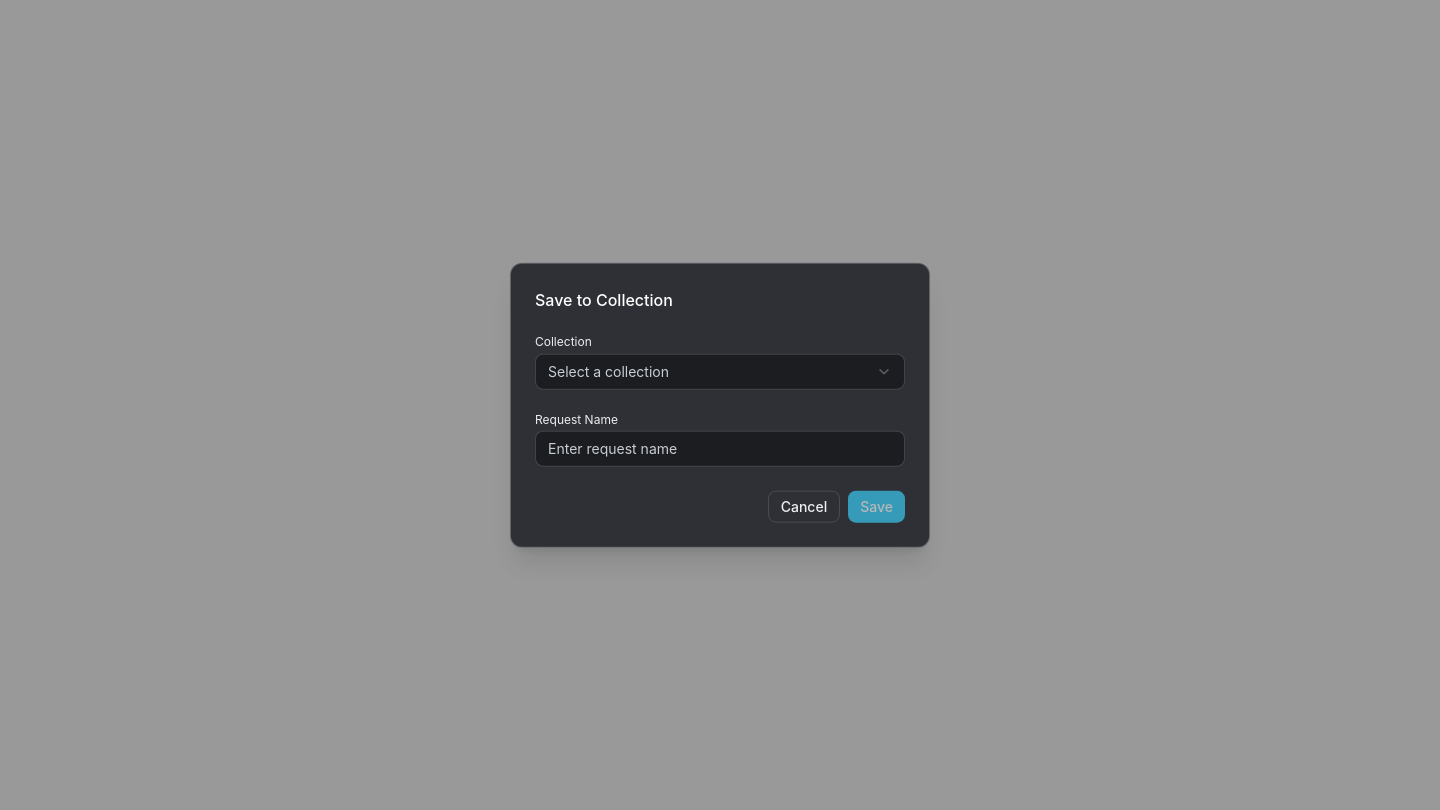
Scenario: SaveToCollectionDialog › shows collection summaries in the picker
Click the dropdown with test id "collection-picker" at [608, 371], box left=535, top=353, right=905, bottom=389
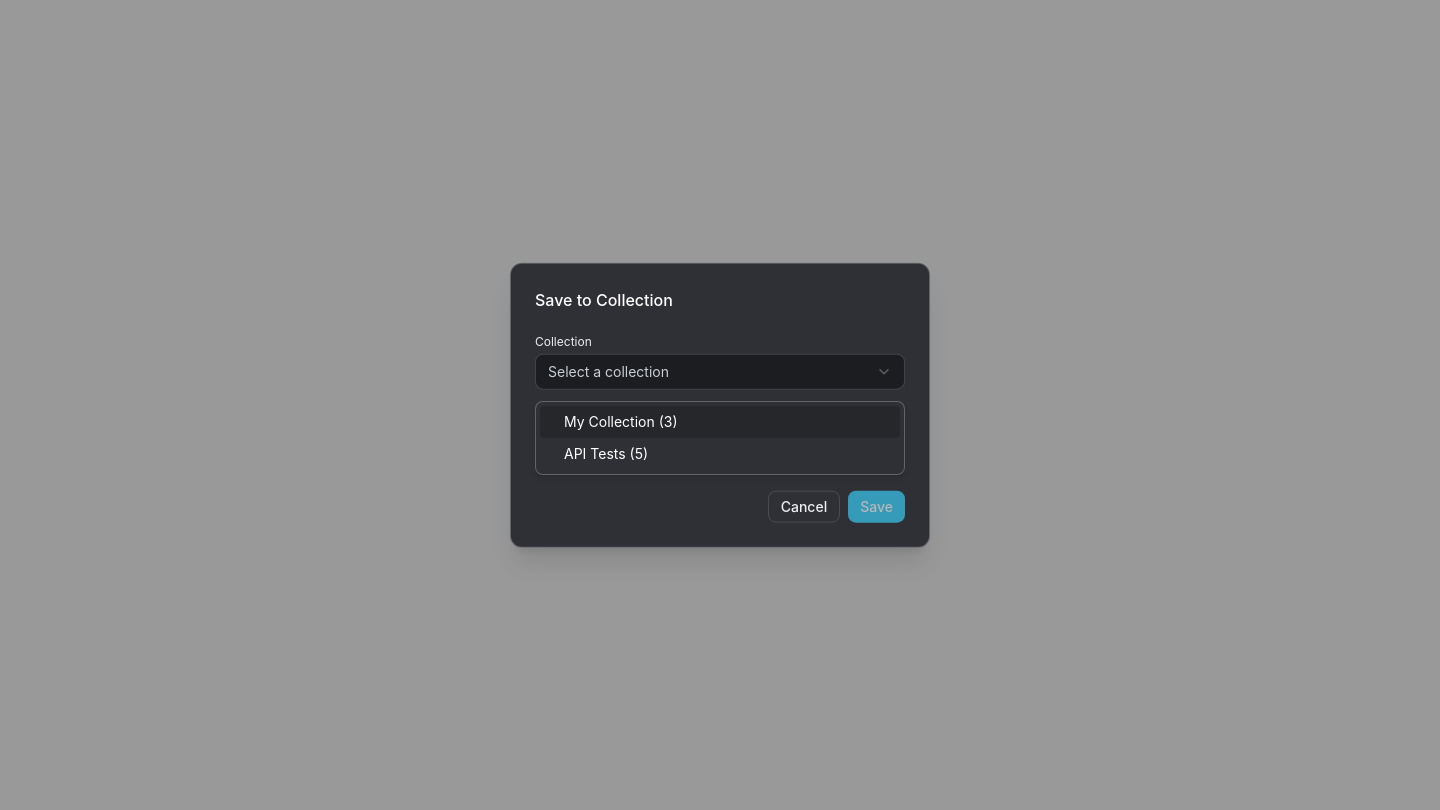
expect the option with test id "collection-option-col-1" is shown: met, box left=540, top=406, right=900, bottom=438
expect the option with test id "collection-option-col-2" is shown: met, box left=564, top=445, right=648, bottom=462
